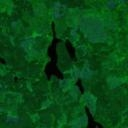alloviz: (43, 20, 64, 81), (83, 104, 103, 128), (64, 38, 77, 59), (74, 77, 86, 94), (1, 55, 8, 66)
